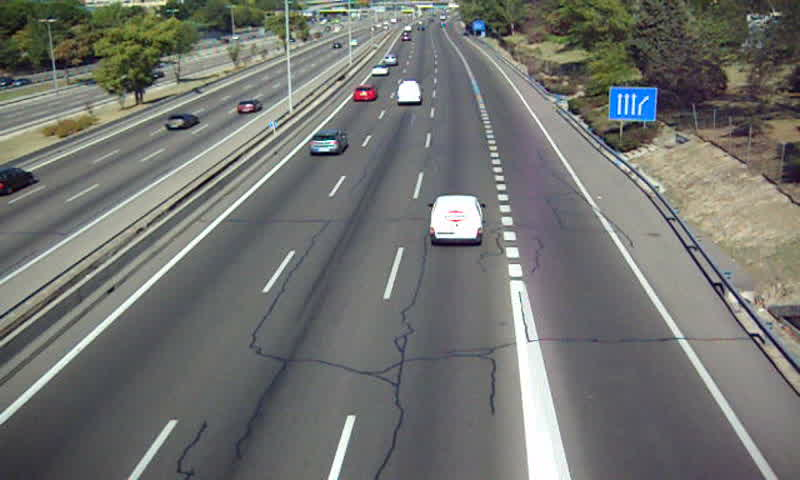car: (309, 128, 347, 156), (353, 85, 375, 102), (372, 64, 388, 77)
van: (430, 196, 483, 243), (398, 81, 422, 105)
